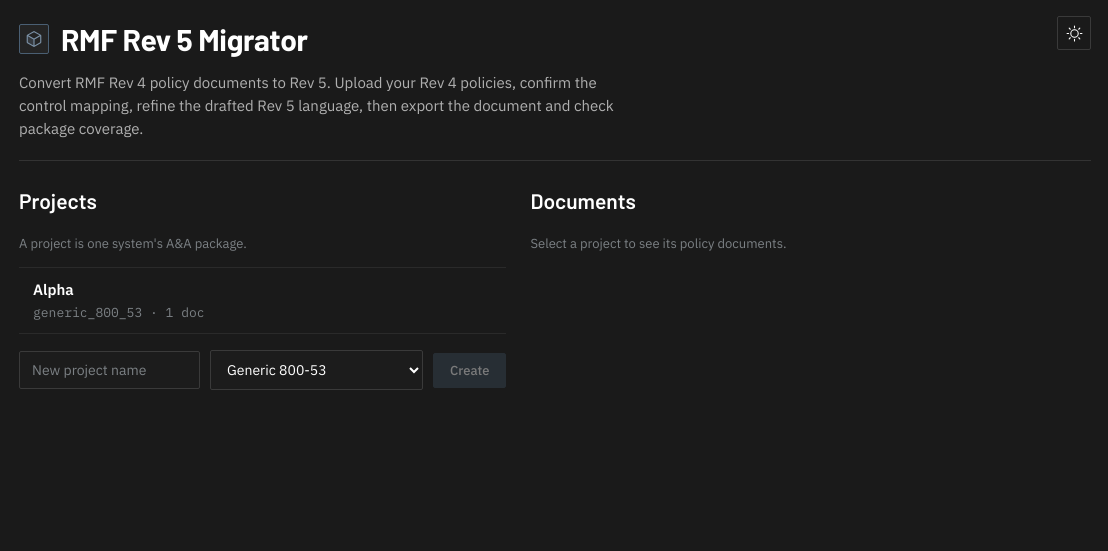
Test case: App project memory › returns to the browser with the project still selected
This screenshot has width=1108, height=551.
Click the button "Alpha generic_800_53 · 1 doc" at {"x": 53, "y": 289}, box x1=19 y1=268 x2=506 y2=333
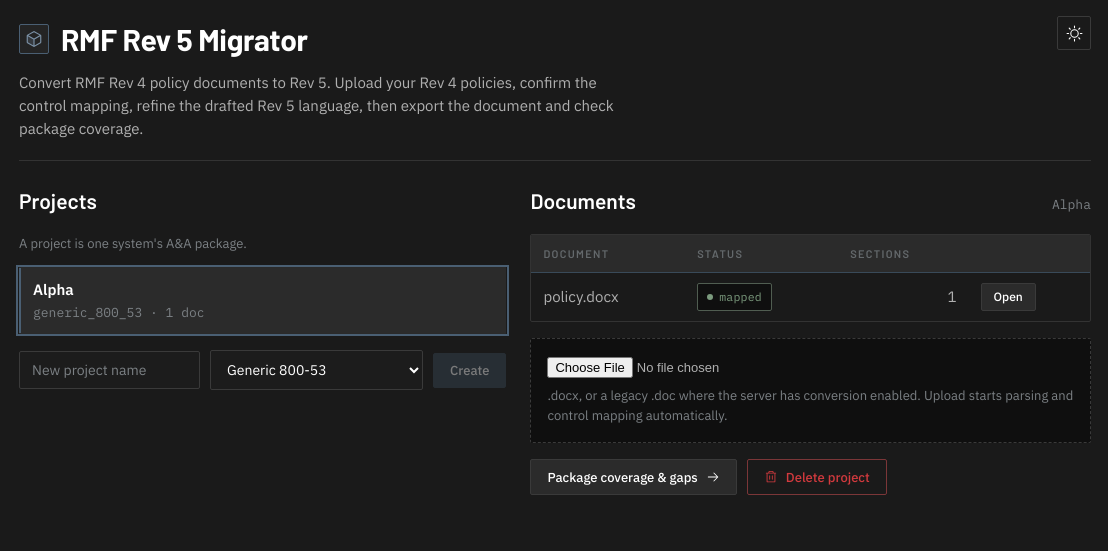
Click the button "Open" at {"x": 1008, "y": 297}, box x1=981 y1=283 x2=1036 y2=311
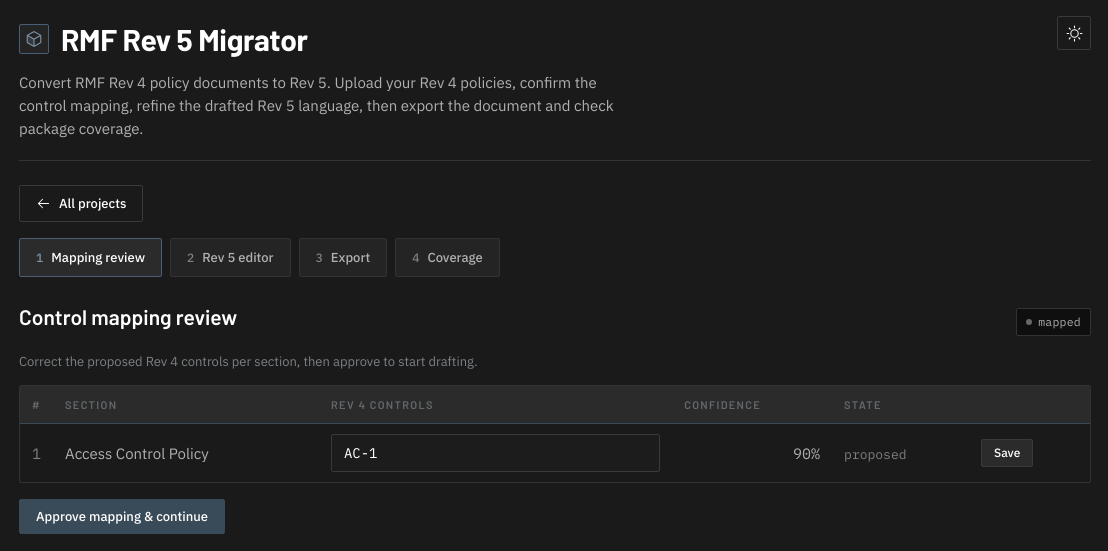
Expected: the navigation bar named "conversion steps" is shown, x1=19 y1=238 x2=500 y2=277
Click the button "All projects" at {"x": 81, "y": 204}, box x1=19 y1=185 x2=143 y2=222
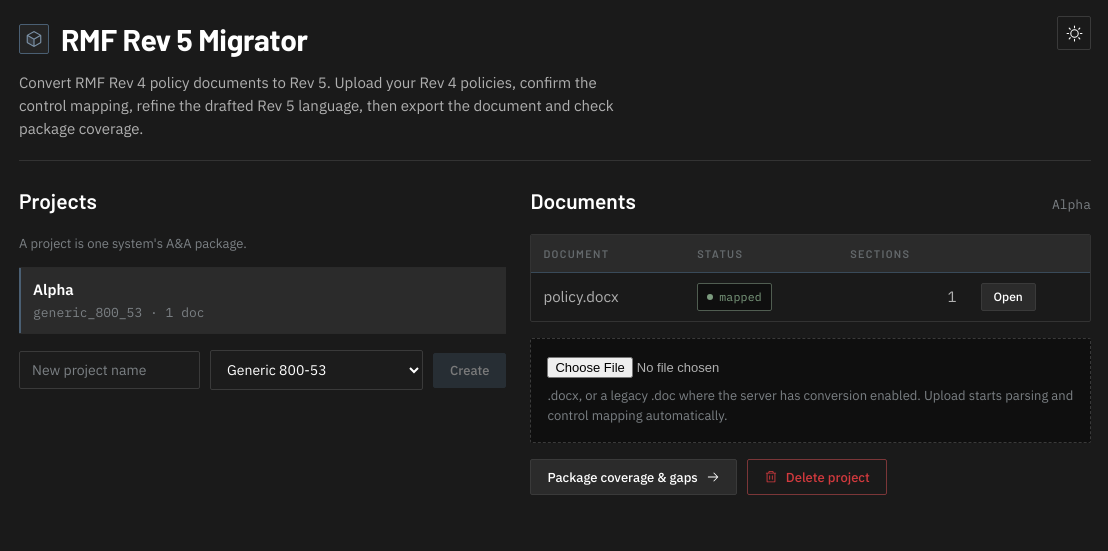
Expected: the text "Select a project to see" is not shown
Expected: the text "policy.docx" is shown, x1=531 y1=272 x2=685 y2=321
